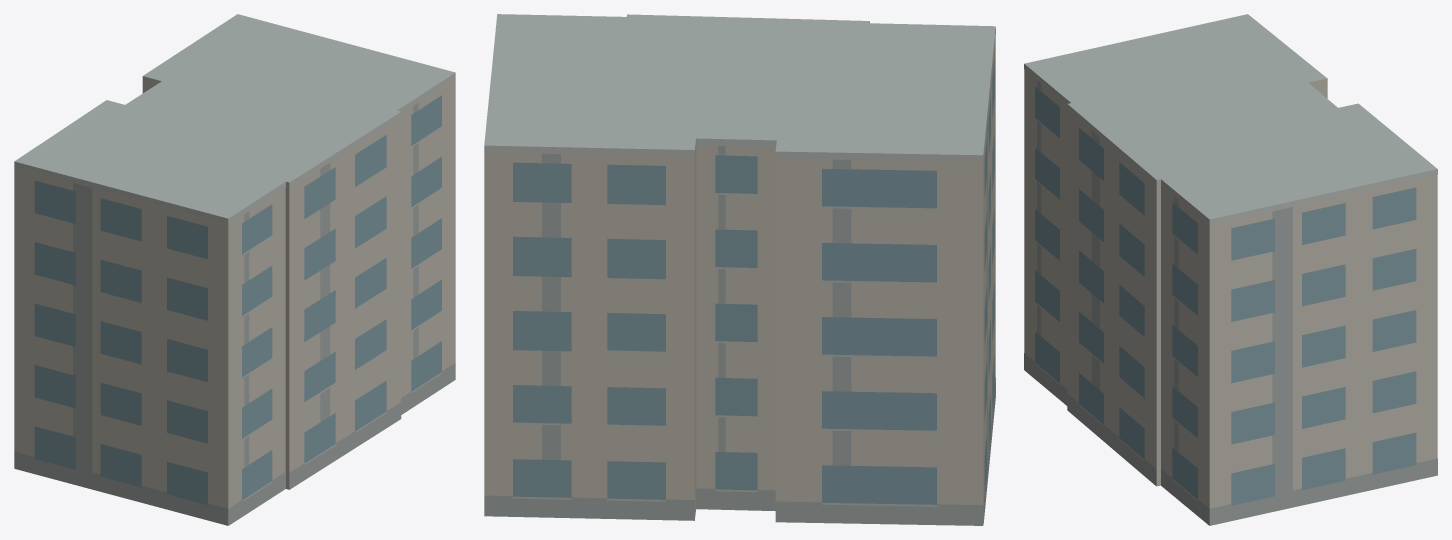
Rendered from survey-upis-32809488.glb.
3 renders of one model, left to right at view 1: azimuth 30°, elevation 25°; view 2: azimuth 150°, elevation 25°; view 3: azimuth 270°, elevation 25°, orthographic. The views are drawn at different scales.
Visible parts, largest first — view 1: survey-upis-32809488.tmp; view 2: survey-upis-32809488.tmp; view 3: survey-upis-32809488.tmp.
Part boxes in pixels (box(x1,y1,x2,y2)): survey-upis-32809488.tmp: box(14, 14, 455, 525); survey-upis-32809488.tmp: box(484, 14, 995, 525); survey-upis-32809488.tmp: box(1024, 14, 1437, 525).
Size of the model in its own units: 18.7 by 13 by 15.91.
